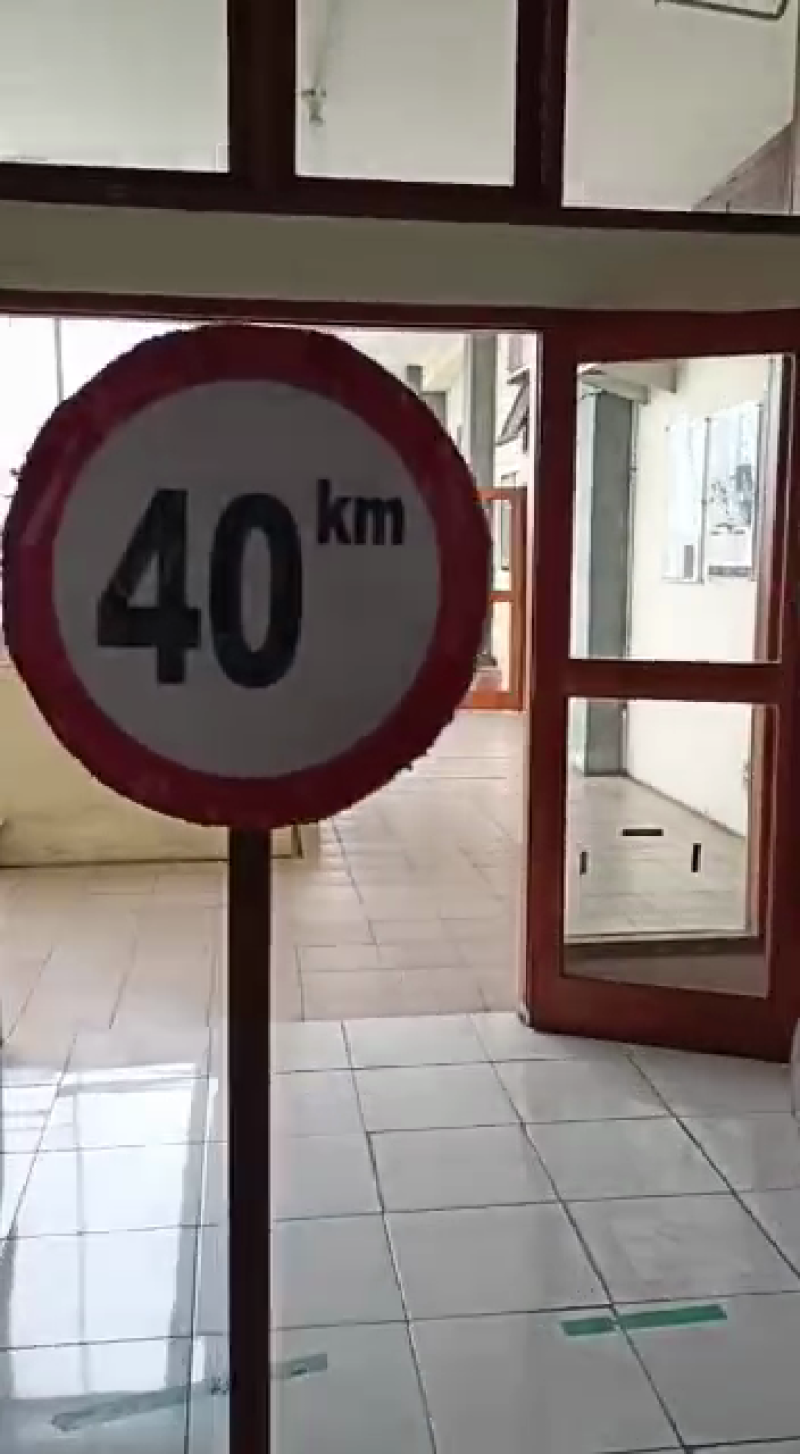batas maksimal 40kmperjam: (1, 318, 505, 851)
